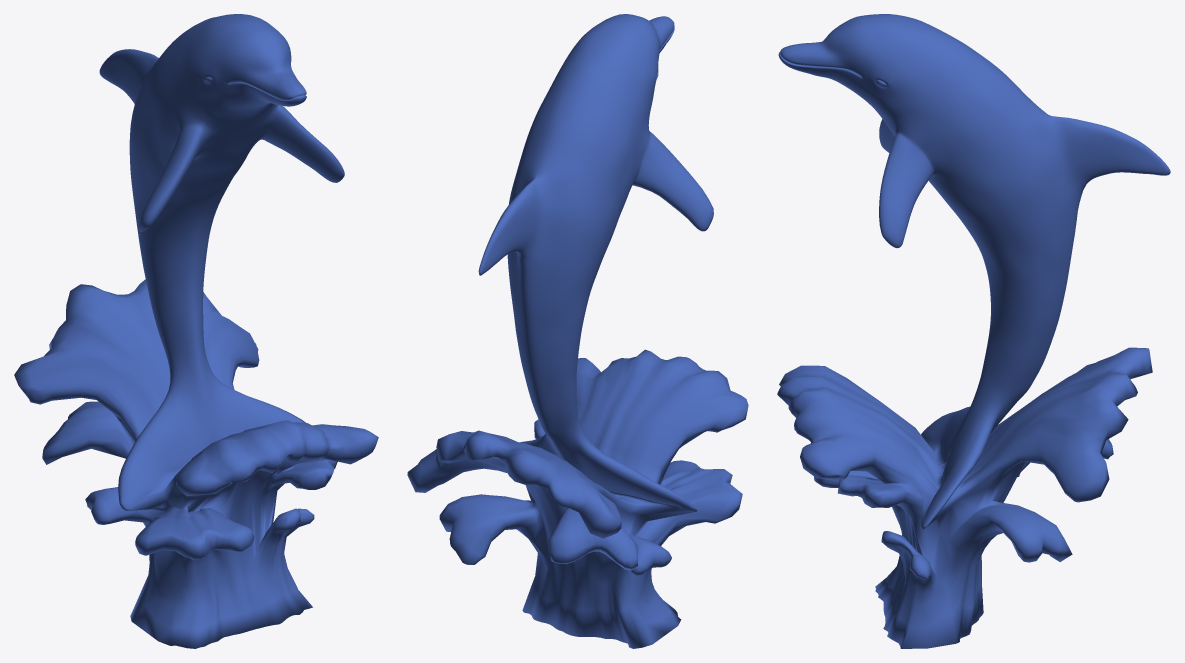
The model's file is delfin.glb.
3 views of the same model, side by side, from view 1: azimuth 30°, elevation 25°; view 2: azimuth 150°, elevation 25°; view 3: azimuth 270°, elevation 25° (orthographic). The views are drawn at different scales.
Visible parts, largest first — view 1: imagetostl_mesh0; view 2: imagetostl_mesh0; view 3: imagetostl_mesh0.
Boxes of the visible parts, left/top/right/bottom form: imagetostl_mesh0: left=14, top=14, right=378, bottom=648; imagetostl_mesh0: left=407, top=14, right=748, bottom=648; imagetostl_mesh0: left=777, top=14, right=1170, bottom=648.
Bounding box in the file's own units: 20.09 × 49.74 × 29.78.
